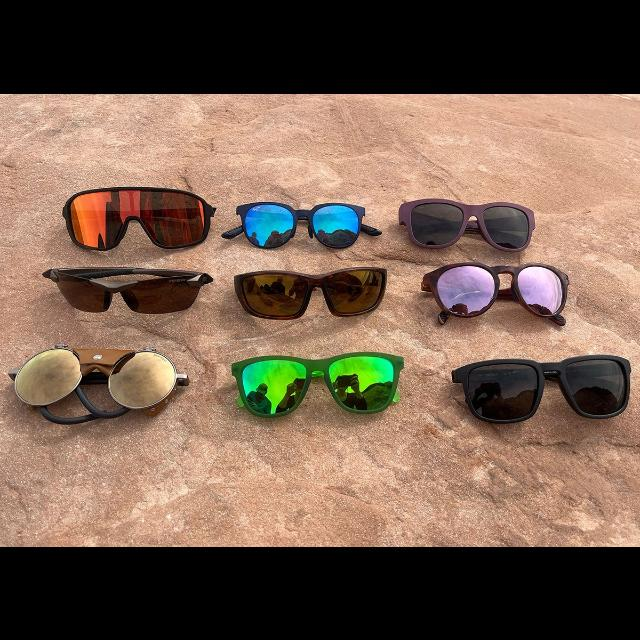Sunglasses: (7, 341, 197, 427), (224, 342, 412, 426), (444, 354, 638, 432), (411, 261, 575, 331), (59, 183, 218, 254), (38, 258, 215, 320), (230, 264, 392, 326), (226, 189, 387, 251), (398, 192, 538, 255)
